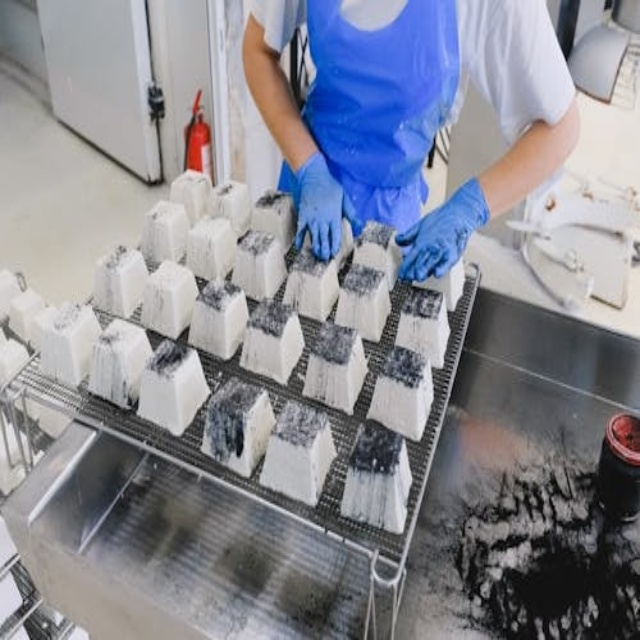Guantes: (390, 169, 493, 288), (294, 144, 364, 259)
